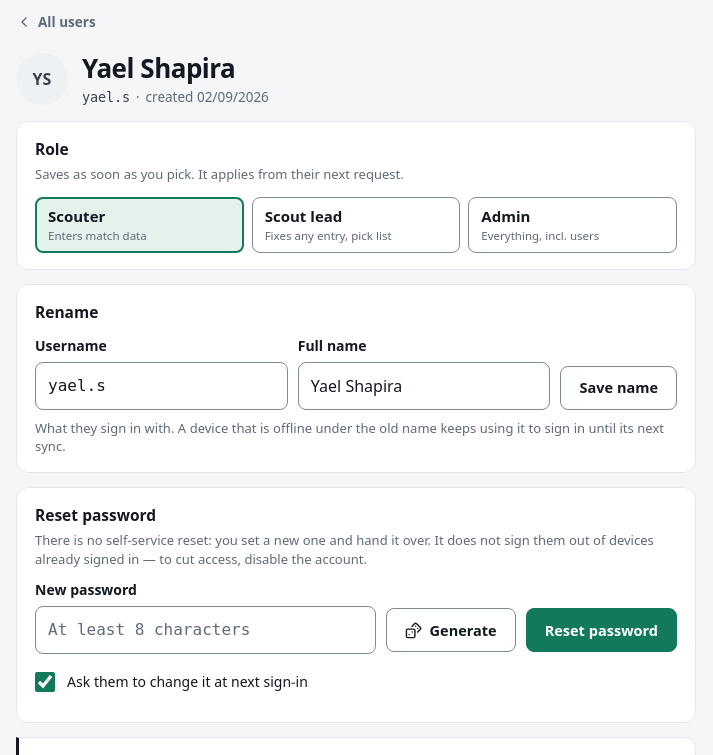
Test: the role › a 403 says only an admin can do this, and leaves the session alone
Click the radio button labelled "Scout lead Fixes any entry, pick list": x=356, y=224 x1=252 y1=196 x2=460 y2=252
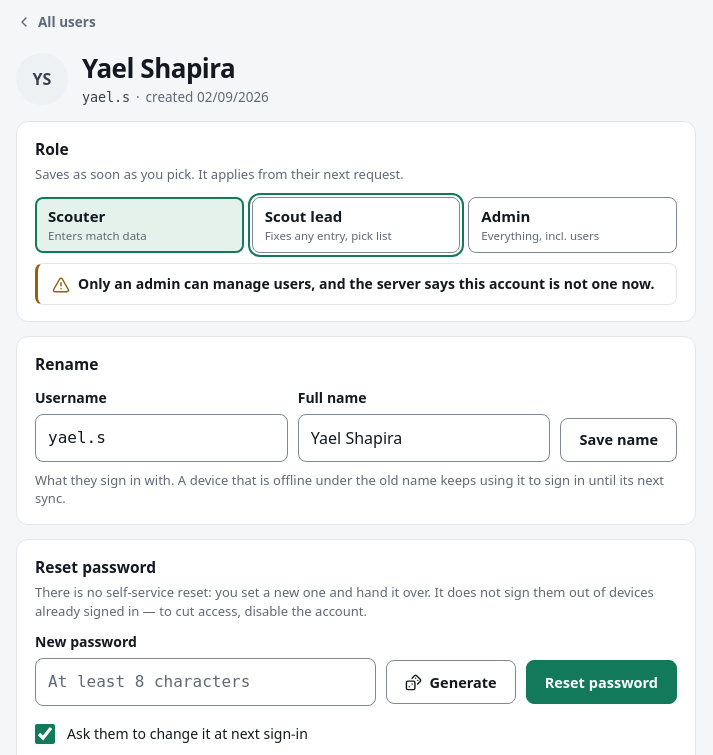
Check: the message shows "Only an admin", box x1=78 y1=274 x2=654 y2=292
